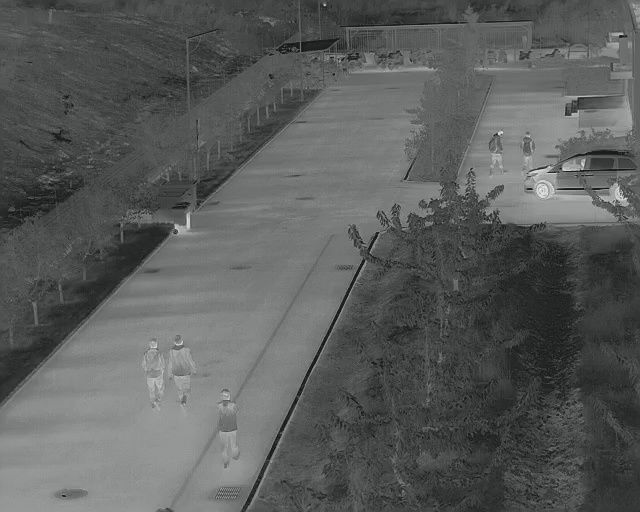person: (164, 334, 198, 410), (215, 387, 243, 468), (140, 338, 163, 411), (487, 127, 506, 178), (519, 127, 534, 176)
vehicle: (521, 149, 640, 200)
